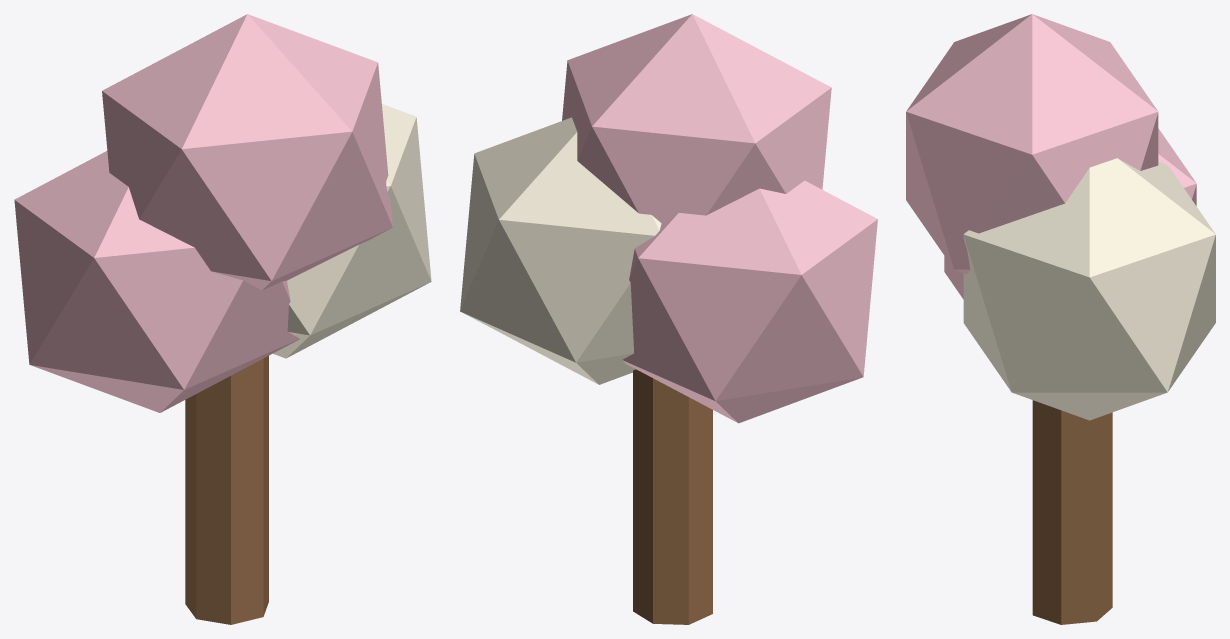
The model's file is NAT_TREE_FLOWER_1x1_001.glb.
The picture shows the model from 3 angles, left to right: view 1: azimuth 30°, elevation 25°; view 2: azimuth 150°, elevation 25°; view 3: azimuth 270°, elevation 25°; orthographic projection. The views are drawn at different scales.
Visible parts, largest first — view 1: NAT_TREE_FLOWER_1x1_001_Visual; view 2: NAT_TREE_FLOWER_1x1_001_Visual; view 3: NAT_TREE_FLOWER_1x1_001_Visual.
Part boxes in pixels (x1=…): NAT_TREE_FLOWER_1x1_001_Visual: x1=14, y1=14, x2=431, y2=624; NAT_TREE_FLOWER_1x1_001_Visual: x1=460, y1=14, x2=877, y2=624; NAT_TREE_FLOWER_1x1_001_Visual: x1=906, y1=14, x2=1215, y2=624.
Size of what is drawn, in the model's own units: 1.17 by 1.71 by 0.8084.
